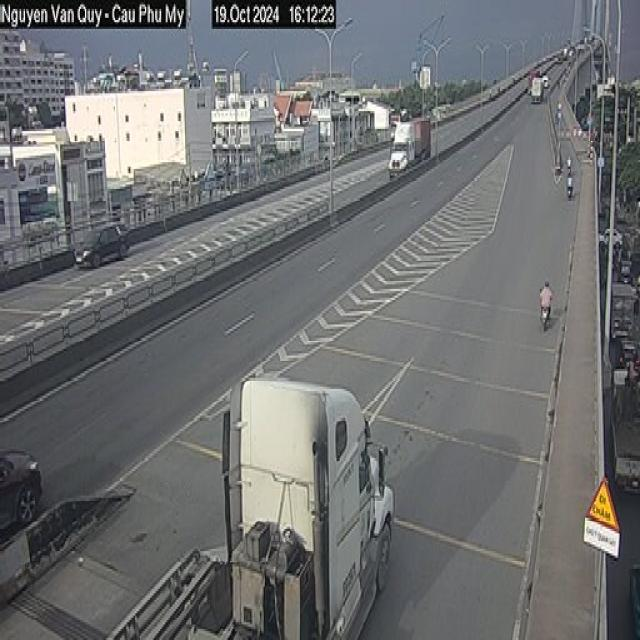car: (0, 449, 50, 547), (72, 216, 132, 281)
container-truck: (105, 352, 419, 640), (385, 112, 436, 181)
